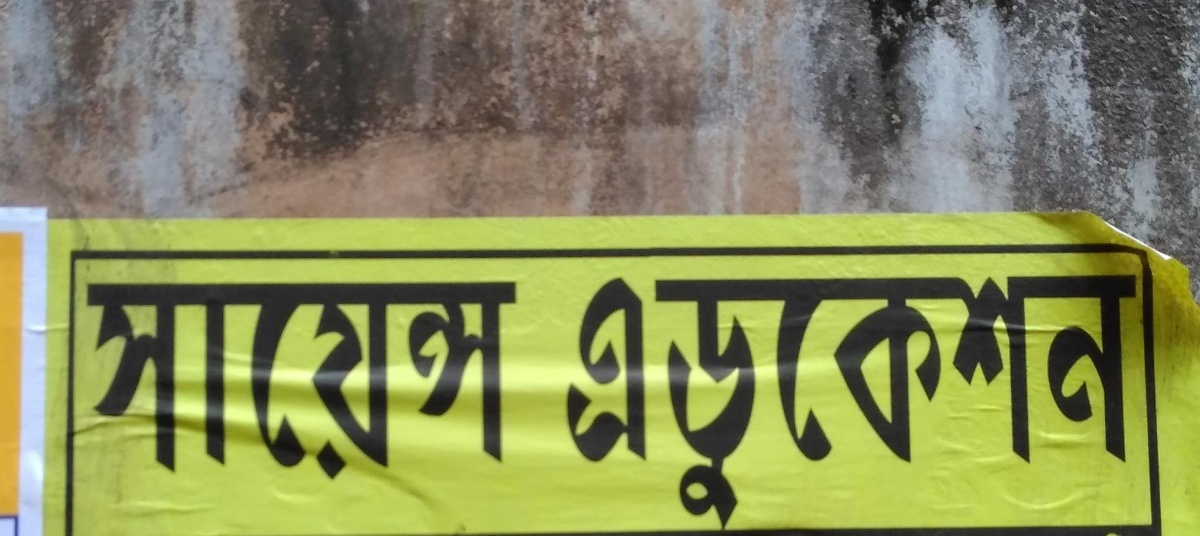text: (561, 256, 576, 531), (577, 256, 592, 531), (593, 256, 608, 531), (609, 256, 624, 531), (625, 256, 640, 531), (641, 256, 656, 531), (657, 256, 672, 531), (673, 256, 688, 531), (689, 256, 704, 531), (705, 256, 720, 531), (721, 256, 736, 531), (737, 256, 752, 531), (753, 256, 768, 531), (769, 256, 784, 531), (785, 256, 800, 531), (801, 256, 816, 531), (817, 256, 832, 531), (833, 256, 848, 531), (849, 256, 864, 531), (865, 256, 880, 531), (881, 256, 896, 531), (897, 256, 912, 531), (913, 256, 928, 531), (929, 256, 944, 531), (945, 256, 960, 531), (961, 256, 976, 531), (977, 256, 992, 531), (993, 256, 1008, 531), (1009, 256, 1024, 531), (1025, 256, 1040, 531), (1041, 256, 1056, 531), (1057, 256, 1072, 531), (1073, 256, 1088, 531), (1089, 256, 1104, 531), (1105, 256, 1120, 531), (1121, 256, 1136, 531), (97, 261, 112, 492), (113, 261, 128, 492), (129, 261, 144, 492), (145, 261, 160, 492), (161, 261, 176, 492), (177, 261, 192, 492), (193, 261, 208, 492), (209, 261, 224, 492), (225, 261, 240, 492), (241, 261, 256, 492), (257, 261, 272, 492), (273, 261, 288, 492), (289, 261, 304, 492), (305, 261, 320, 492), (321, 261, 336, 492), (337, 261, 352, 492), (353, 261, 368, 492), (369, 261, 384, 492), (385, 261, 400, 492), (401, 261, 416, 492), (417, 261, 432, 492), (433, 261, 448, 492), (449, 261, 464, 492), (465, 261, 480, 492), (481, 261, 496, 492), (497, 261, 512, 492), (513, 261, 528, 492), (84, 261, 96, 492), (1137, 256, 1145, 531)
